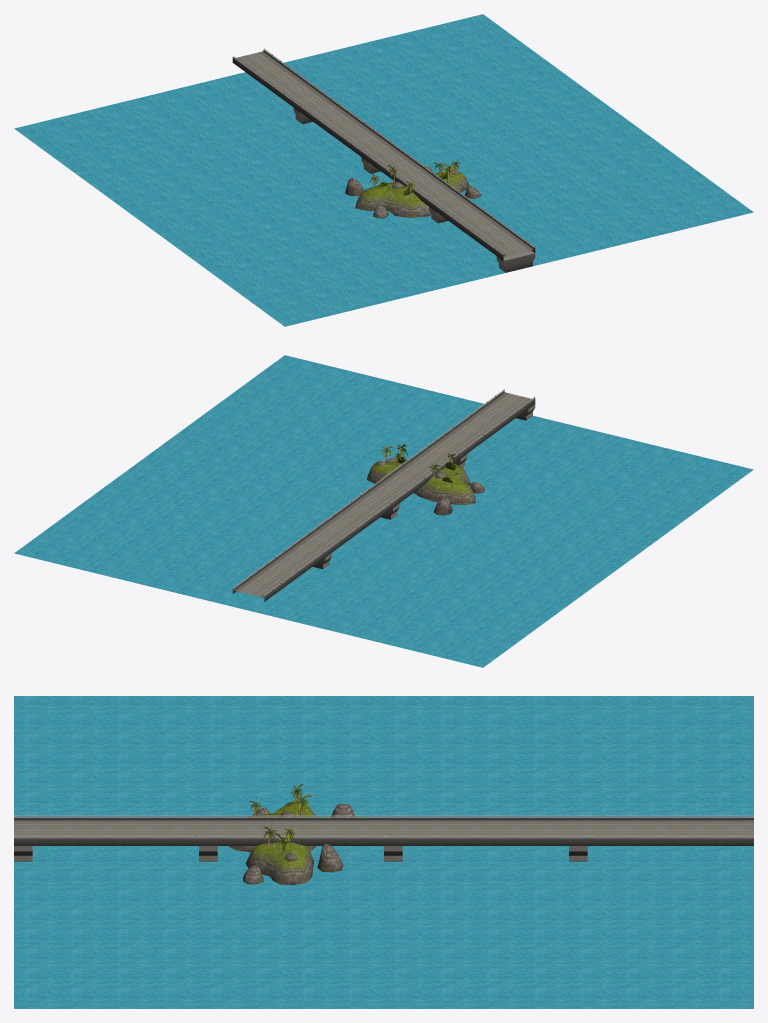
Rendered from Track03_Low.FBX.
The picture shows the model from 3 angles, top to bottom: view 1: azimuth 30°, elevation 25°; view 2: azimuth 150°, elevation 25°; view 3: azimuth 270°, elevation 25°; orthographic projection. The views are drawn at different scales.
Visible parts, largest first — view 1: Wave, Road (×2), Rock, Pillar; view 2: Wave, Road (×2), Rock; view 3: Wave, Road (×2), Rock (×3).
Part boxes in pixels (<box>): Wave: <box>14,14,753,326</box>; Road (×2): <box>232,48,535,260</box>; Rock: <box>355,181,431,217</box>; Pillar: <box>496,250,535,272</box>; Wave: <box>14,355,753,667</box>; Road (×2): <box>232,389,535,601</box>; Rock: <box>414,463,475,505</box>; Wave: <box>14,696,753,1008</box>; Road (×2): <box>14,815,753,845</box>; Rock (×3): <box>228,801,342,885</box>.
Size of the model in its own units: 6300 by 444 by 6300.
